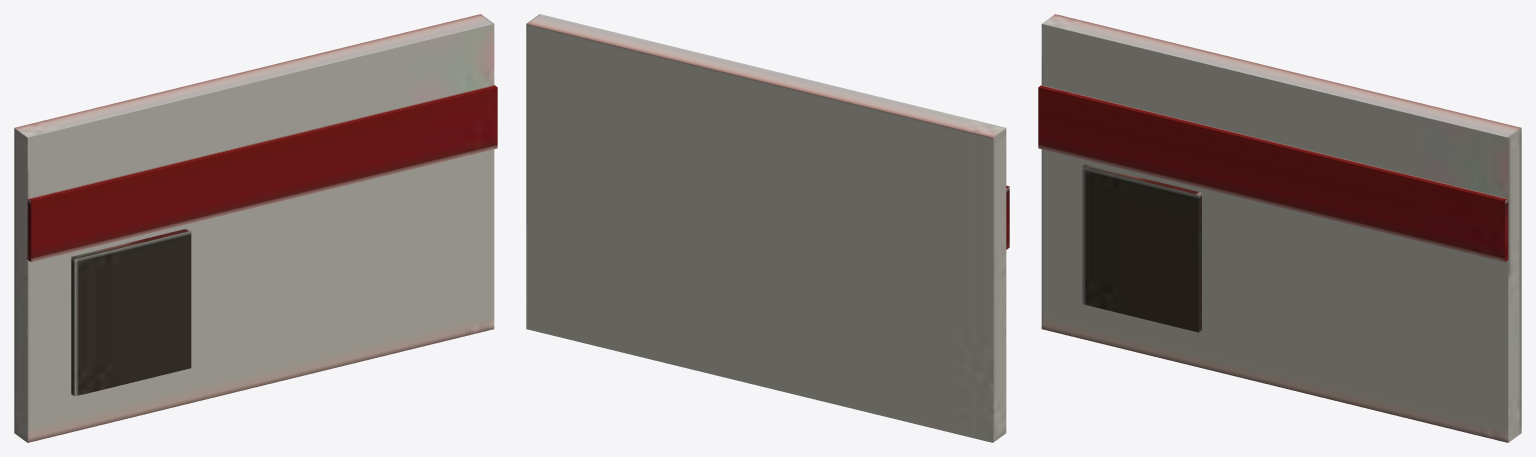
The model's file is keycard.glb.
3 views of the same model, side by side, from view 1: azimuth 30°, elevation 25°; view 2: azimuth 150°, elevation 25°; view 3: azimuth 330°, elevation 25° (orthographic).
Parts seen in each view (by area): view 1: Main; view 2: Main; view 3: Main.
Part boxes in pixels (x1=…): Main: x1=14, y1=14, x2=497, y2=442; Main: x1=526, y1=14, x2=1009, y2=442; Main: x1=1038, y1=14, x2=1521, y2=442.
Size of the model in its own units: 0.16 by 0.1 by 0.01.
1 material, 1 textured.
